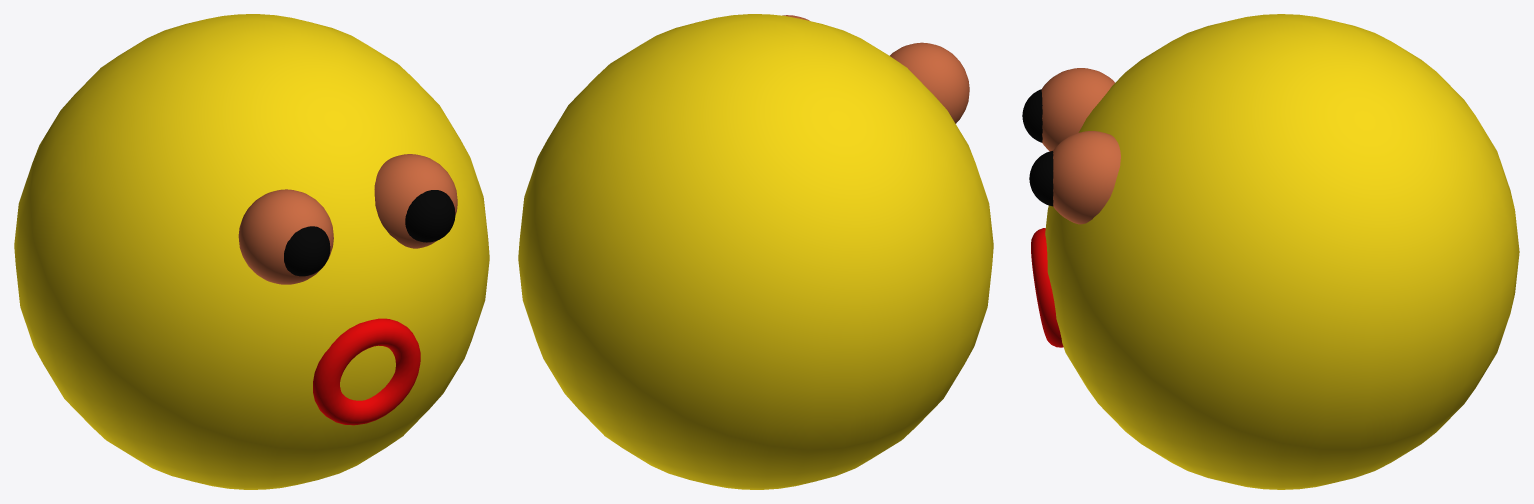
File: oved.fbx
3 renders of one model, left to right at view 1: azimuth 30°, elevation 25°; view 2: azimuth 150°, elevation 25°; view 3: azimuth 270°, elevation 25°, orthographic.
Visible parts, largest first — view 1: Sphere, Torus, Sphere_1, Sphere_2, Sphere_5, Sphere_4; view 2: Sphere, Sphere_1; view 3: Sphere, Sphere_2, Sphere_1, Torus, Sphere_5, Sphere_4.
Part boxes in pixels (x1=…): Sphere: x1=14, y1=14, x2=489, y2=489; Torus: x1=313, y1=318, x2=420, y2=425; Sphere_1: x1=238, y1=189, x2=333, y2=284; Sphere_2: x1=374, y1=154, x2=457, y2=248; Sphere_5: x1=405, y1=190, x2=455, y2=242; Sphere_4: x1=284, y1=226, x2=330, y2=276; Sphere: x1=518, y1=14, x2=993, y2=489; Sphere_1: x1=890, y1=42, x2=969, y2=123; Sphere: x1=1045, y1=14, x2=1519, y2=489; Sphere_2: x1=1053, y1=131, x2=1120, y2=224; Sphere_1: x1=1041, y1=68, x2=1114, y2=151; Torus: x1=1031, y1=228, x2=1063, y2=347; Sphere_5: x1=1029, y1=151, x2=1053, y2=206; Sphere_4: x1=1022, y1=89, x2=1042, y2=142.
Bounding box in the file's own units: 200 × 200 × 209.
